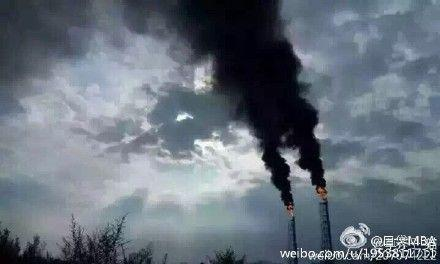smoke: (123, 1, 326, 200)
